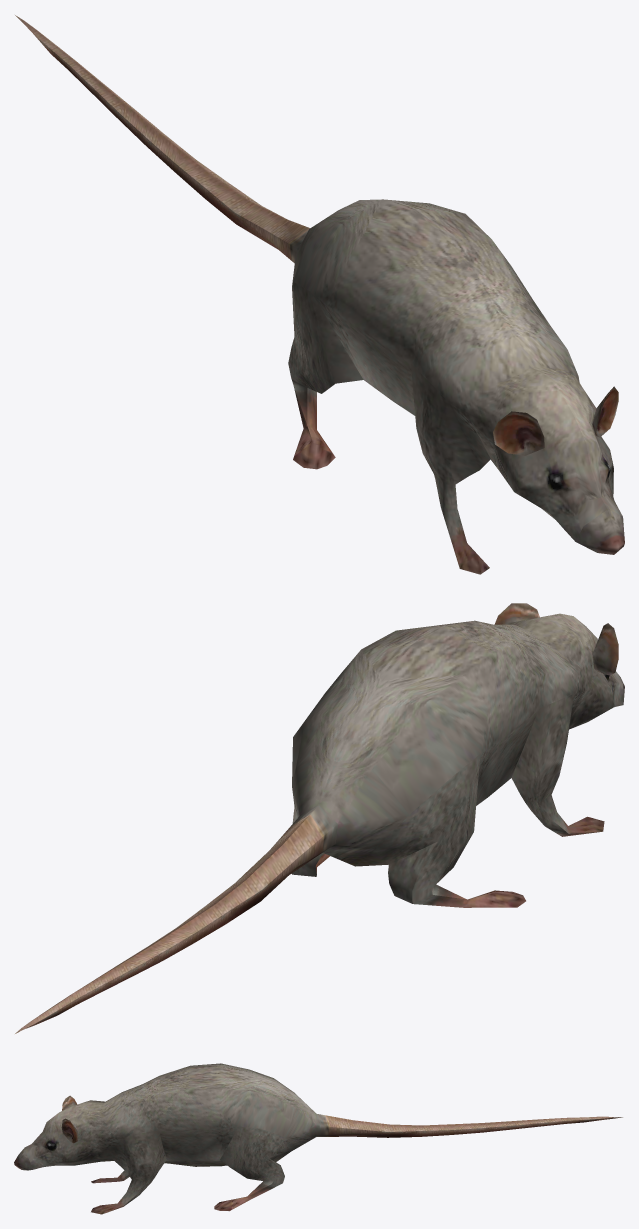
3 views of the same model, one above another, from view 1: azimuth 30°, elevation 25°; view 2: azimuth 150°, elevation 25°; view 3: azimuth 270°, elevation 25° (orthographic). The views are drawn at different scales.
Visible parts, largest first — view 1: rat_LOD0; view 2: rat_LOD0; view 3: rat_LOD0.
Part boxes in pixels (x1,y1,x2,y2): rat_LOD0: (15,15,624,574); rat_LOD0: (15,603,624,1033); rat_LOD0: (14,1063,622,1214).
Size of the model in its own units: 17.63 by 19.1 by 82.19.
1 material, 1 textured.
